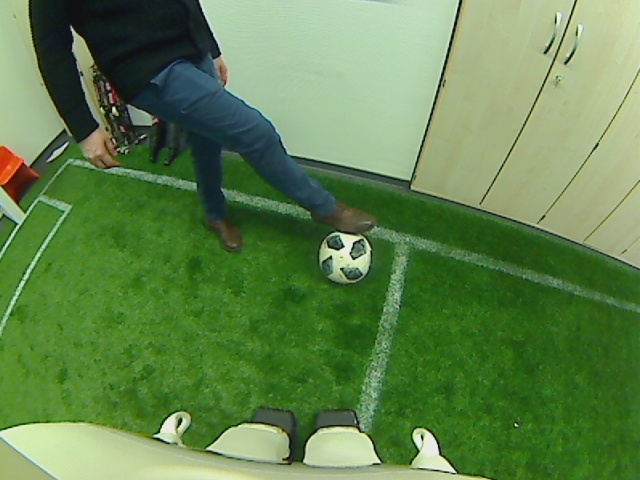ball: (316, 228, 373, 287)
